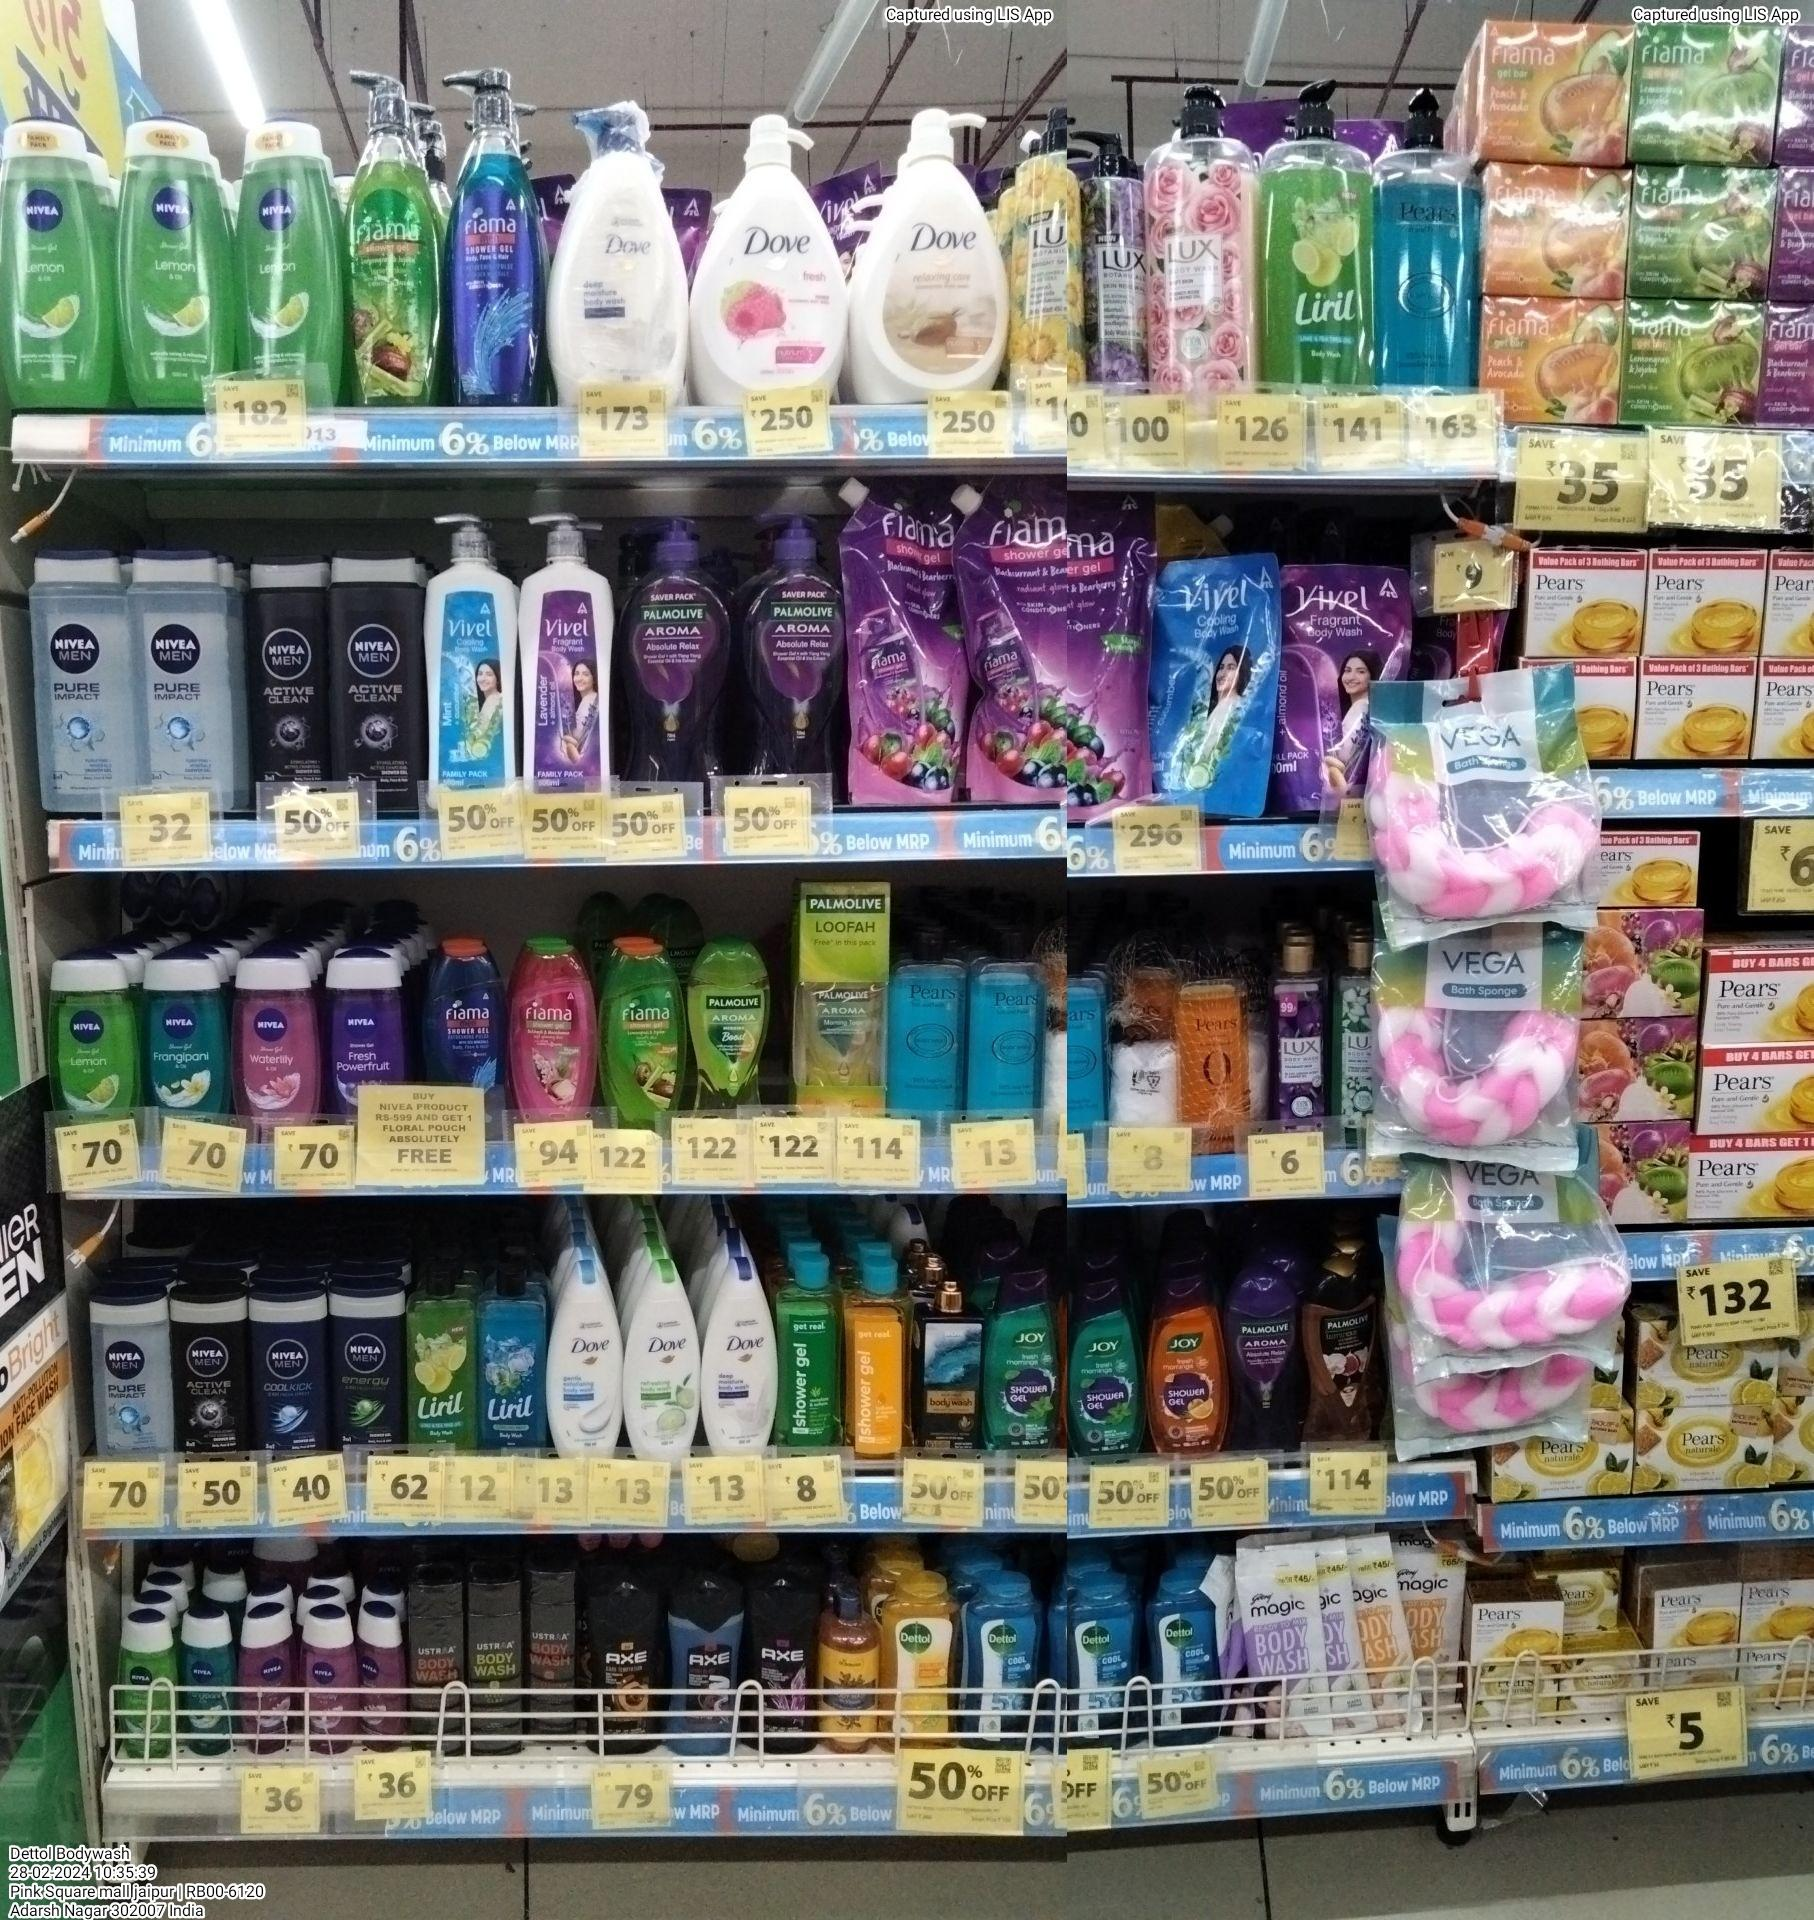Dettol_Bodywash_Cool: (965, 1576, 1040, 1756), (1147, 1576, 1221, 1751), (1064, 1576, 1135, 1755)
Dettol_Bodywash_Refresh: (883, 1576, 956, 1758)
Dove_Deep_Moisture_Body_Wash_250ML: (702, 1255, 777, 1454)
Dove_Gentle_Exfoliating_Body_Wash_250ML: (551, 1260, 621, 1461)
Dove_Refreshing_Body_Wash_250ML: (627, 1260, 699, 1460)
Fiama_Shower_Gel_Lemongrass_and_Jojoba_250ML: (604, 943, 679, 1127)
Fiama_Shower_Gel_Patchouli_and_Macadamia_250ML: (510, 943, 595, 1127)
Joy_Shower_Gel_Mandarin_and_Lemongrass_250ML: (1147, 1264, 1222, 1454)
Joy_Shower_Gel_Mint_and_Eucalyptus_250ML: (1071, 1241, 1139, 1461), (985, 1267, 1057, 1463)
Liril_Cooling_Mint_Body_Wash_250ML: (479, 1267, 546, 1454)
Liril_Lime_and_Tea_Tree_Oil_Body_Wash_250ML: (407, 1269, 474, 1449)
Lux_Black_Orchid_Scent_and_Juniper_Oil_Body_Wash_245ML: (1270, 934, 1325, 1134)
Lux_Body_Wash_Skin_Detox_Freesia_Scent_and_Alove_Vera_245ML: (1330, 929, 1374, 1149)
Nivea_Shower_Gel_Frangipani_and_Oil_250ML: (145, 953, 232, 1122)
Nivea_Shower_Gel_Fresh_Powerfruit_250ML: (327, 946, 402, 1119)
Nivea_Shower_Gel_Lemon_and_Oil_250ML: (49, 950, 140, 1124)
Nivea_Shower_Gel_Waterlily_and_Oil_250ML: (234, 955, 322, 1132)
Palmolive_Aroma_Morning_Tonic_Shower_Gel_250ML: (689, 934, 764, 1117)
Palmolive_Aroma_Relax_250ML: (1228, 1257, 1299, 1451)
Palmolive_Luminous_Oils_With_White_Orchid_Shower_Gel_250ML: (1304, 1262, 1376, 1449)
Pears_Pure_Glycerin_and_Mint_Extracts_Body_Wash_250ML: (892, 933, 968, 1124), (970, 924, 1043, 1115)
